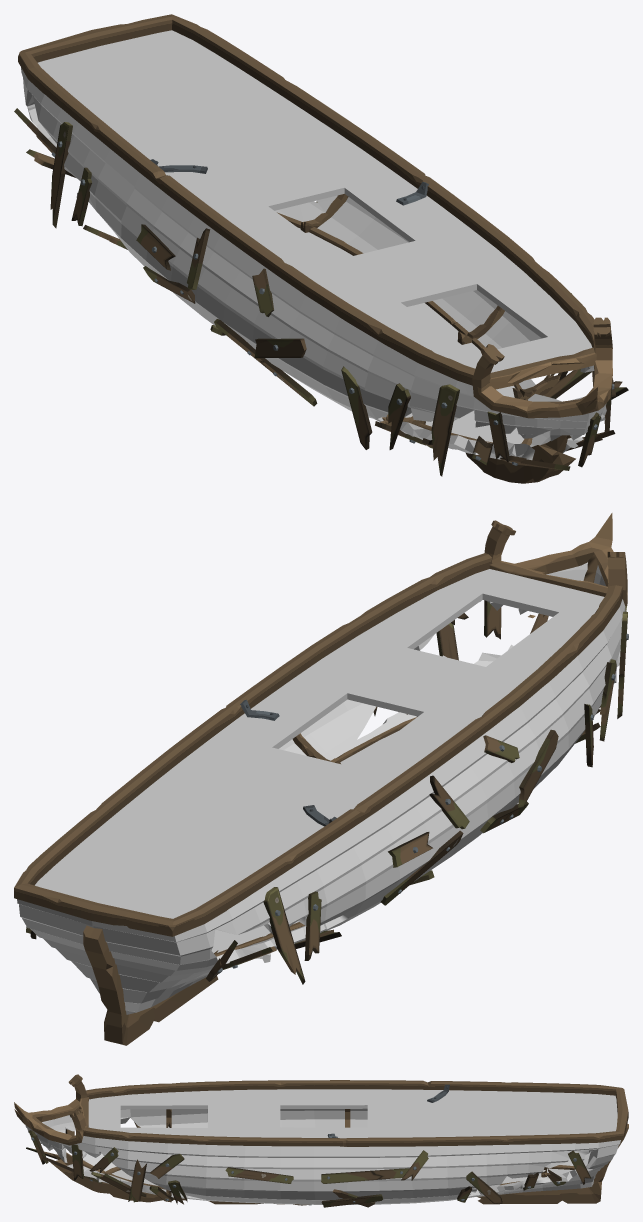
File: SM_Veh_Ship_M_Hull_02.fbx
3 views of the same model, one above another, from view 1: azimuth 30°, elevation 25°; view 2: azimuth 150°, elevation 25°; view 3: azimuth 270°, elevation 25° (orthographic). The views are drawn at different scales.
Parts seen in each view (by area): view 1: SM_Veh_Ship_M_Hull_02; view 2: SM_Veh_Ship_M_Hull_02; view 3: SM_Veh_Ship_M_Hull_02.
Boxes of the visible parts, x1,y1,x2,y2 form: SM_Veh_Ship_M_Hull_02: [14, 14, 628, 483]; SM_Veh_Ship_M_Hull_02: [14, 513, 628, 1045]; SM_Veh_Ship_M_Hull_02: [14, 1074, 628, 1207].
Bounding box in the file's own units: 912 × 580 × 2964.
